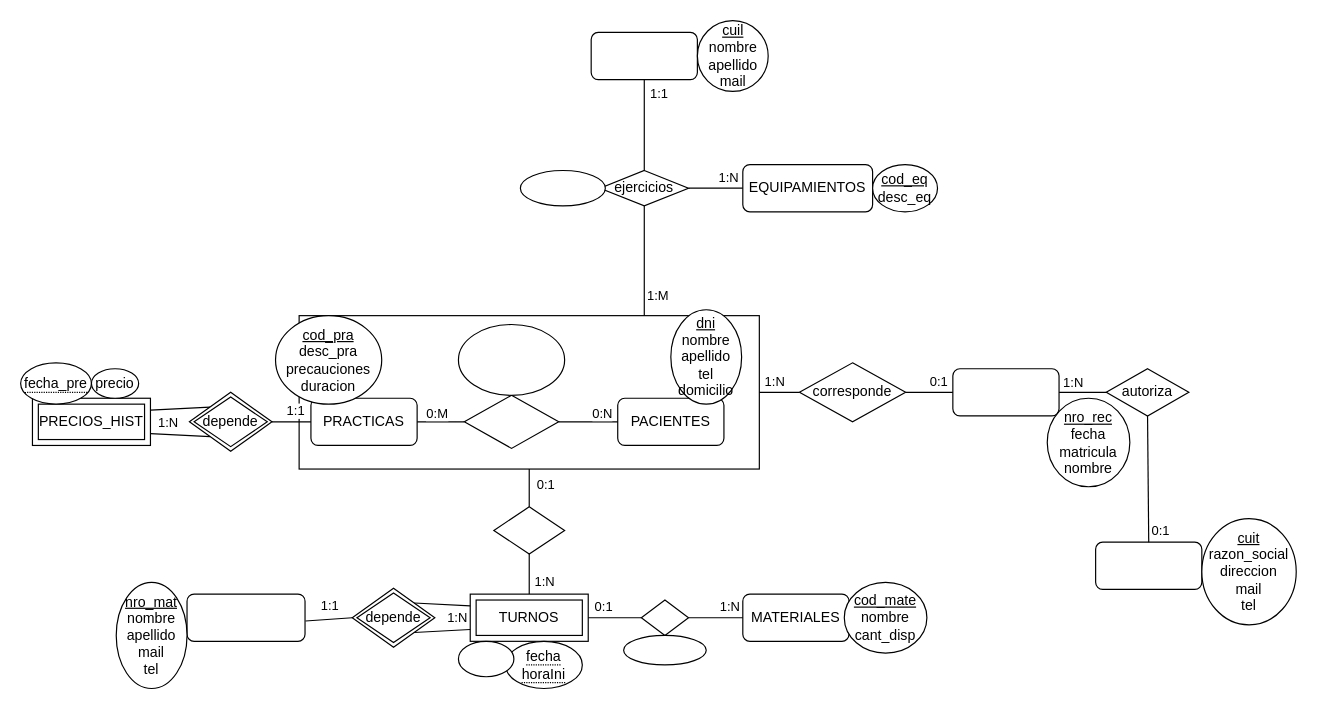
Some shapes in this 1317 by 709 pixel diagram are drawn without their labels. The centre of each missing label's shape, as x and y in pixels:
"asigna" goes at (x=529, y=530).
"cantUsada" goes at (x=664, y=649).
"estado" goes at (x=485, y=658).
"fechaIng horaIng" goes at (x=562, y=187).
"fechaSoli horaSoli cantSesiones" goes at (x=511, y=359).
"KINESIÓLOGOS" goes at (x=245, y=617).
"OBRA_SOCIAL" goes at (x=1148, y=565).
"PROFESORES" goes at (x=643, y=55).
"RECETAS" goes at (x=1005, y=392).
"tratamientos" goes at (x=511, y=421).
"usa" goes at (x=664, y=617).
